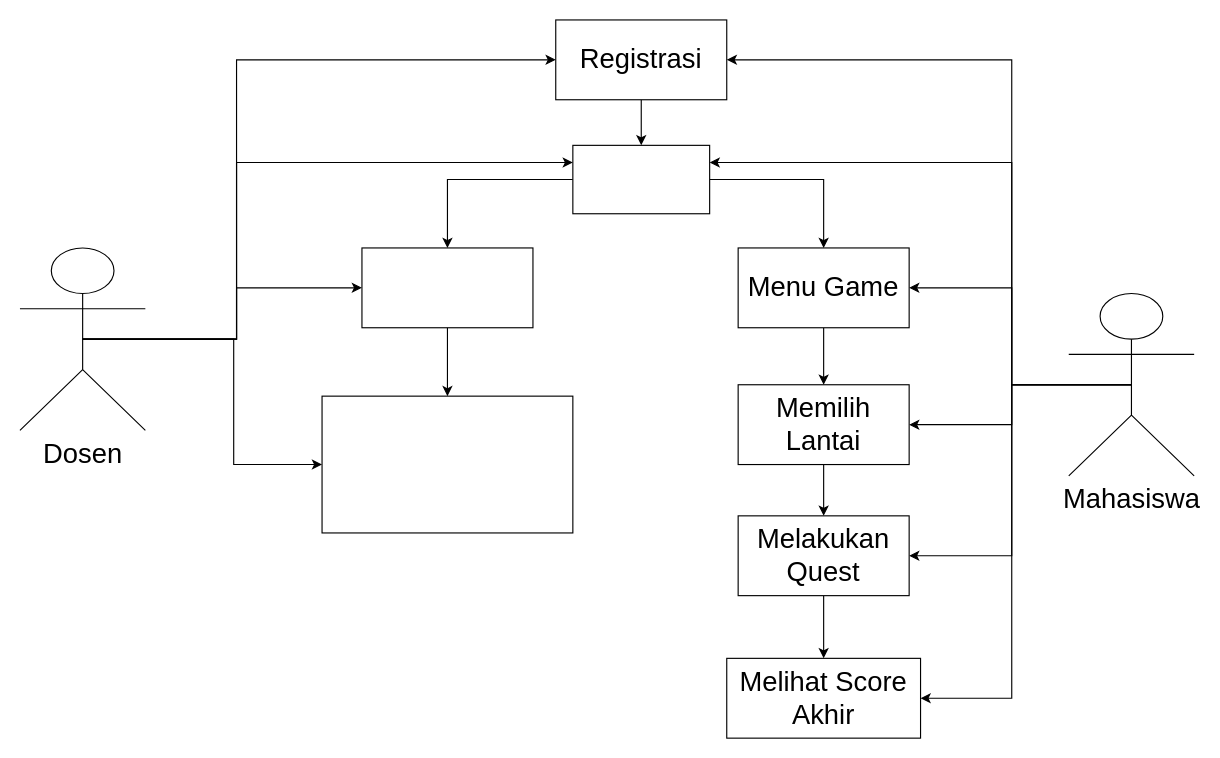
The diagram is 1220 pixels wide and 758 high, and some of its shapes have lost their labels. Here are the shapes that lost their labels. From the top down, the centre of each, then its label:
the point at 641,179: Log In
the point at 447,287: Halaman Admin
the point at 447,464: Melihat Score Data Mahasiswa
